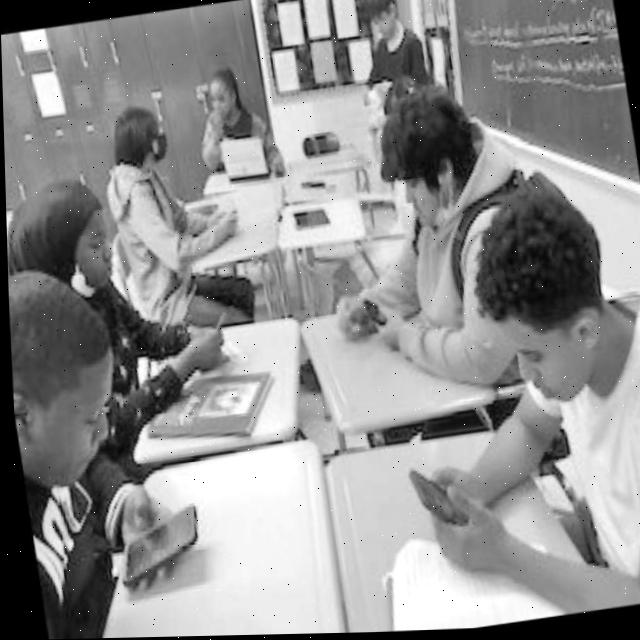phone: (110, 499, 205, 588), (404, 462, 470, 534), (195, 308, 232, 359), (362, 295, 388, 328)
